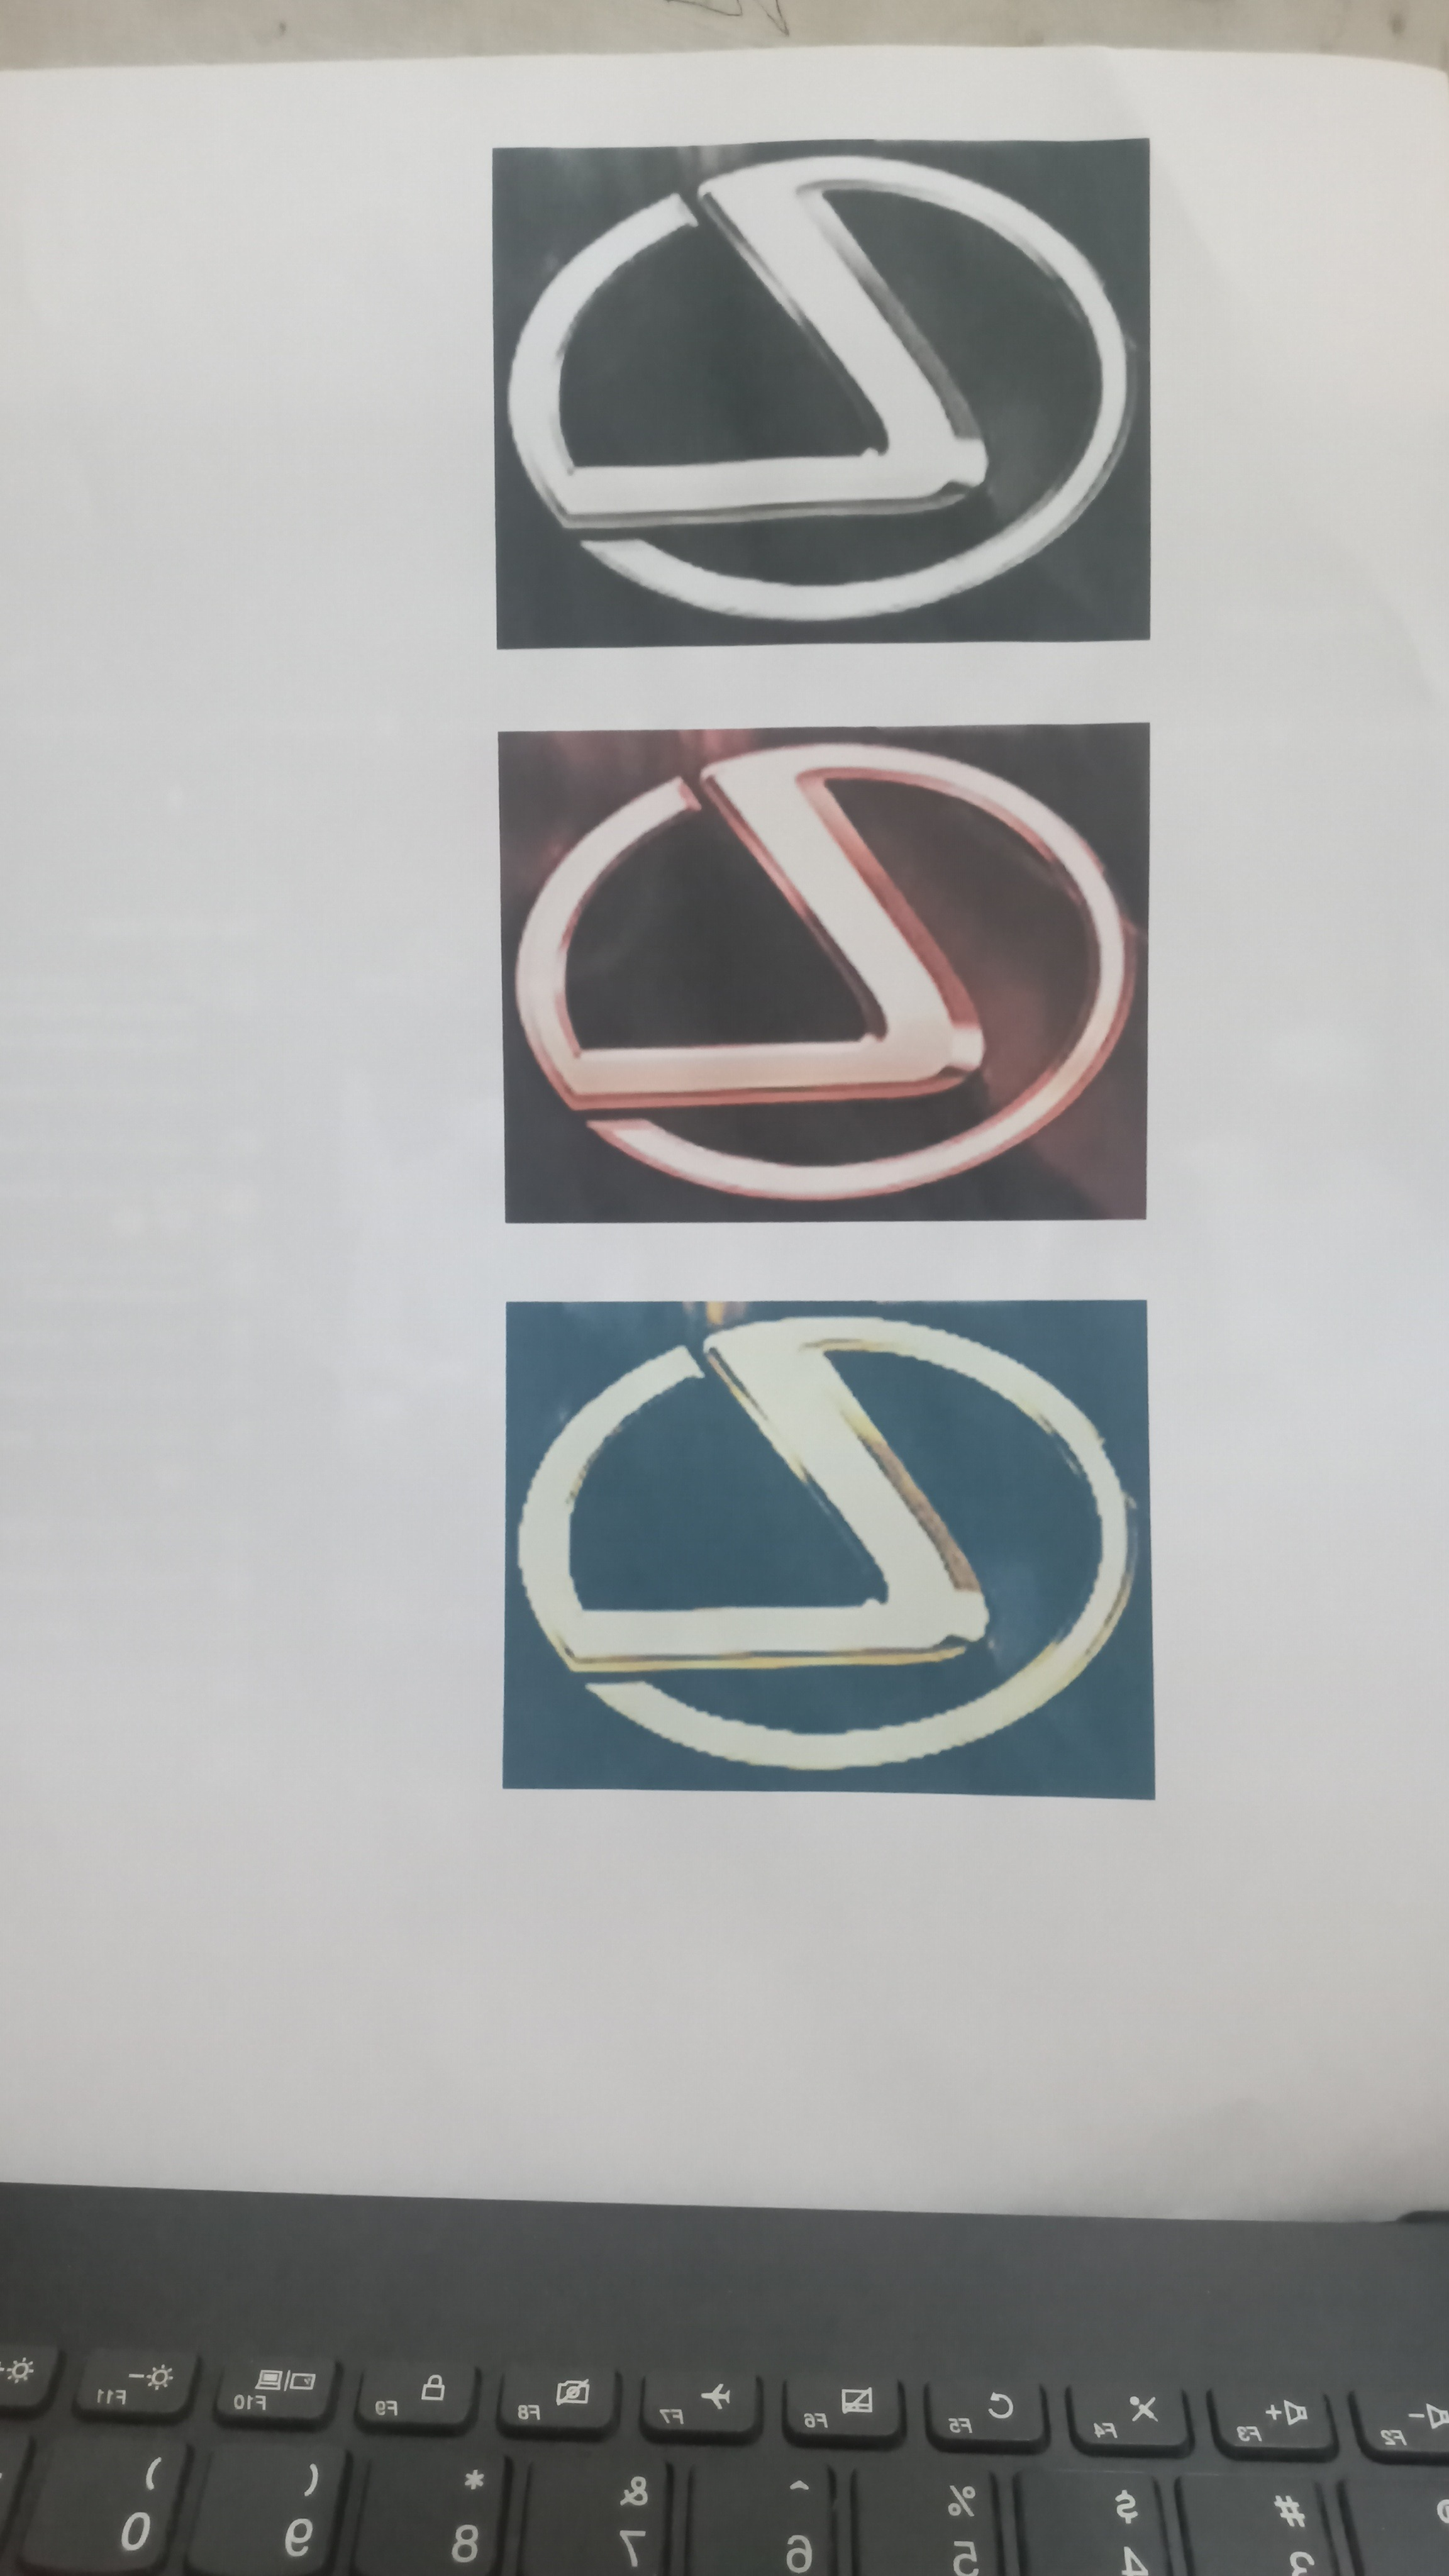Lexus: (502, 145, 1146, 640), (510, 732, 1132, 1215), (511, 1309, 1131, 1787)
